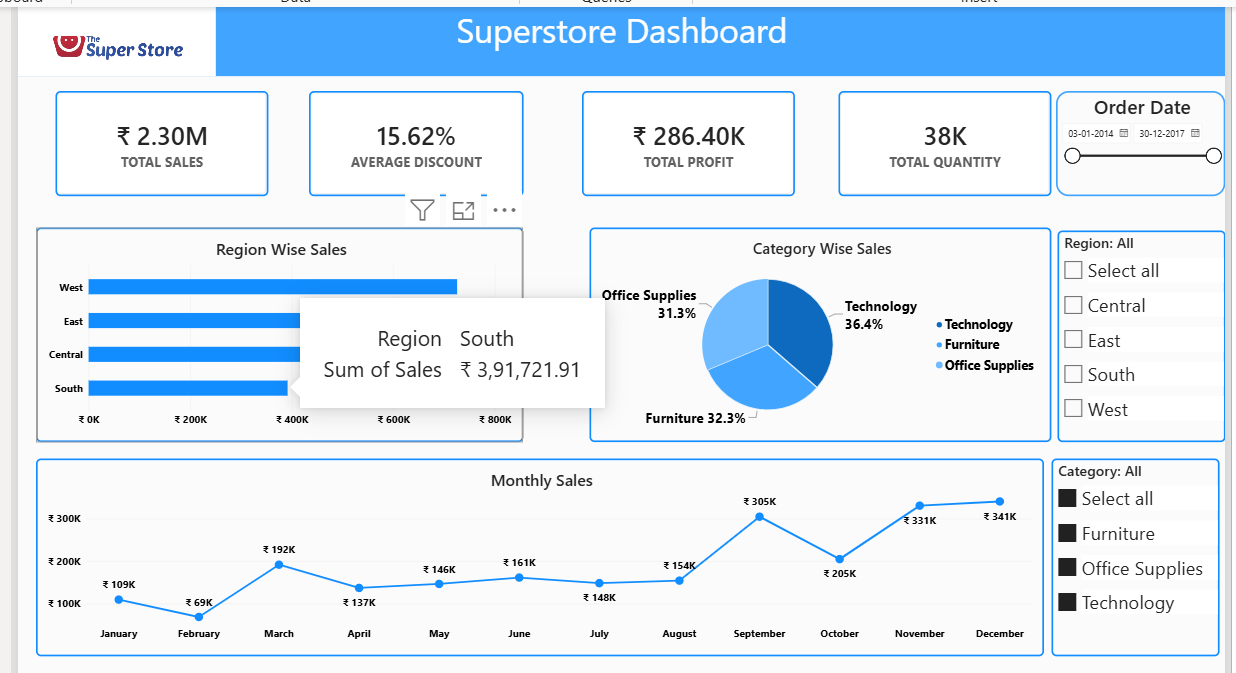

This screenshot's page, from the dashboard's own definition file:
{"tool":"powerbi","page":{"name":"Page 1","canvas":[1920,1080],"ordinal":0},"visuals":[{"type":"cardVisual","fields":{"Data":["Sum(Dataset.Sales)"]},"box":[28,218,340,166],"z":0},{"type":"cardVisual","fields":{"Data":["Sum(Dataset.Profit)"]},"box":[898,218,338,166],"z":1000},{"type":"cardVisual","fields":{"Data":["Avg(Dataset.Discount)"]},"box":[464,218,340,166],"z":2000},{"type":"cardVisual","fields":{"Data":["Sum(Dataset.Quantity)"]},"box":[1292,218,340,166],"z":3000},{"type":"clusteredBarChart","title":"Region Wise Sales","fields":{"Category":["Dataset.Region"],"Y":["Sum(Dataset.Sales)"]},"box":[28,404,776,340],"z":4000},{"type":"pieChart","title":"Category Wise Sales","fields":{"Category":["Dataset.Category"],"Y":["Sum(Dataset.Sales)"]},"box":[898,404,734,340],"z":5000},{"type":"lineChart","title":"Monthly Sales","fields":{"Category":["Dataset.Ship Date.Variation.Date Hierarchy.Month"],"Y":["Sum(Dataset.Sales)"]},"box":[28,766,1604,314],"z":6000},{"type":"slicer","fields":{"Values":["Dataset.Category"]},"box":[1651.1,765.9,267.2,303],"z":7000},{"type":"slicer","fields":{"Values":["Dataset.Region"]},"box":[1643.9,408,267.2,336.4],"z":8000},{"type":"slicer","title":"Order Date","fields":{"Values":["Dataset.Order Date"]},"box":[1641.5,217.1,269.6,167],"z":9000},{"type":"textbox","box":[0,0,1920.7,109.8],"z":9500},{"type":"image","box":[0,0,314.9,109.8],"z":10000}]}

Visuals, with their boxes in screenshot pixels (x1, y1, x2, y2):
cardVisual - Sum(Dataset.Sales): rect(27, 103, 244, 209)
cardVisual - Sum(Dataset.Profit): rect(582, 103, 797, 209)
cardVisual - Avg(Dataset.Discount): rect(305, 103, 522, 209)
cardVisual - Sum(Dataset.Quantity): rect(832, 103, 1049, 209)
"Region Wise Sales" clusteredBarChart: rect(27, 222, 522, 438)
"Category Wise Sales" pieChart: rect(582, 222, 1049, 438)
"Monthly Sales" lineChart: rect(27, 452, 1049, 652)
slicer - Dataset.Category: rect(1061, 452, 1231, 645)
slicer - Dataset.Region: rect(1057, 224, 1227, 439)
"Order Date" slicer: rect(1055, 103, 1227, 209)
textbox: rect(10, 0, 1233, 35)
image: rect(10, 0, 210, 35)
